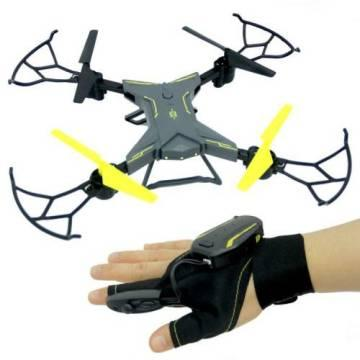drone: (7, 32, 353, 240)
